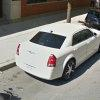Car: (12, 21, 100, 76)
